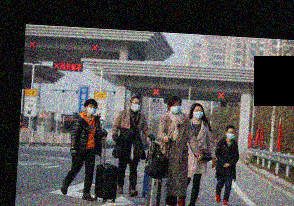with_mask: (191, 107, 205, 119), (169, 101, 181, 113), (131, 99, 142, 111), (225, 129, 236, 140), (86, 103, 96, 114)
